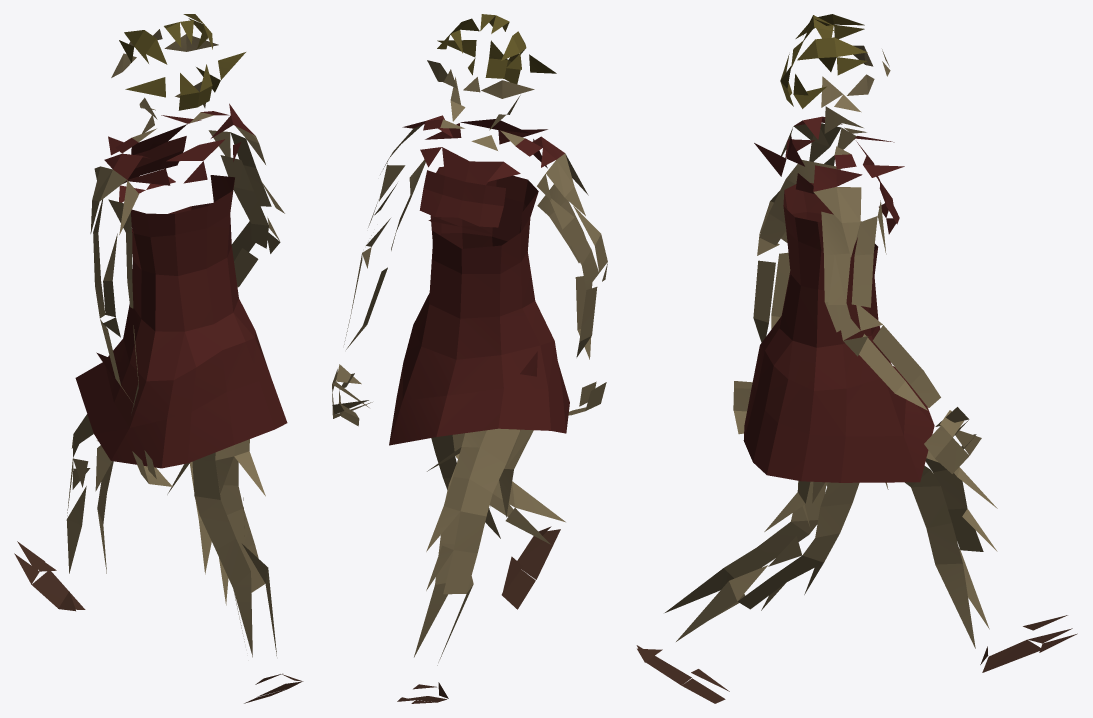
The model's file is personfar_0_w1.fbx.
3 views of the same model, side by side, from view 1: azimuth 30°, elevation 25°; view 2: azimuth 150°, elevation 25°; view 3: azimuth 270°, elevation 25° (orthographic). The views are drawn at different scales.
Visible parts, largest first — view 1: Female; view 2: Female; view 3: Female.
Boxes of the visible parts, x1,y1,x2,y2 form: Female: (14, 14, 303, 703); Female: (332, 14, 607, 703); Female: (636, 14, 1077, 703).
Bounding box in the file's own units: 0.3237 × 0.9704 × 0.5797.
